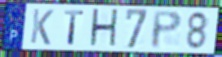7: (124, 7, 149, 51)
8: (186, 11, 210, 51)
H: (88, 8, 120, 50)
K: (29, 8, 55, 47)
P: (150, 10, 184, 50)
T: (63, 9, 86, 47)
